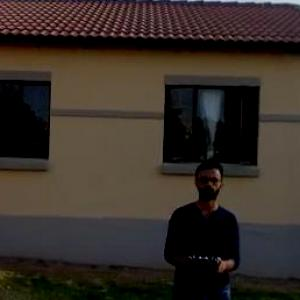follow: (160, 151, 246, 299)
